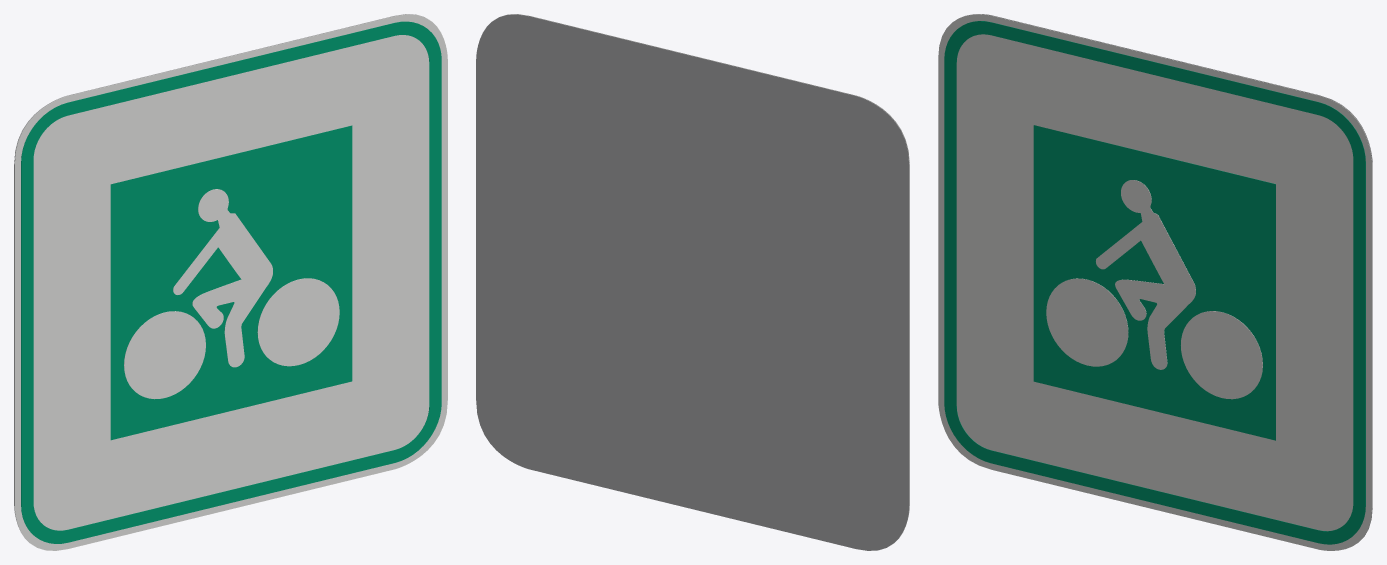
The picture shows the model from 3 angles, left to right: view 1: azimuth 30°, elevation 25°; view 2: azimuth 150°, elevation 25°; view 3: azimuth 330°, elevation 25°; orthographic projection.
Visible parts, largest first — view 1: Dv11_p00, Dv11_p02, Dv11_p01, Dv11_p04, Dv11_p03, Dv11_p05, Dv11_dos; view 2: Dv11_dos, Dv11_p00; view 3: Dv11_p00, Dv11_p02, Dv11_p01, Dv11_p04, Dv11_p05, Dv11_p03, Dv11_dos.
Part boxes in pixels (left/top/right/bottom): Dv11_p00: left=14, top=14, right=447, bottom=550; Dv11_p02: left=110, top=125, right=352, bottom=440; Dv11_p01: left=21, top=21, right=441, bottom=543; Dv11_p04: left=173, top=189, right=272, bottom=367; Dv11_p03: left=257, top=278, right=339, bottom=366; Dv11_p05: left=124, top=311, right=205, bottom=399; Dv11_dos: left=14, top=14, right=424, bottom=542; Dv11_dos: left=476, top=14, right=909, bottom=550; Dv11_p00: left=499, top=14, right=909, bottom=542; Dv11_p00: left=938, top=14, right=1372, bottom=550; Dv11_p02: left=1033, top=125, right=1275, bottom=440; Dv11_p01: left=944, top=21, right=1365, bottom=544; Dv11_p04: left=1096, top=180, right=1195, bottom=369; Dv11_p05: left=1046, top=278, right=1128, bottom=366; Dv11_p03: left=1181, top=311, right=1262, bottom=399; Dv11_dos: left=960, top=14, right=1372, bottom=537.
Size of the model in its own units: 0.7 by 0.6999 by 0.0039.
